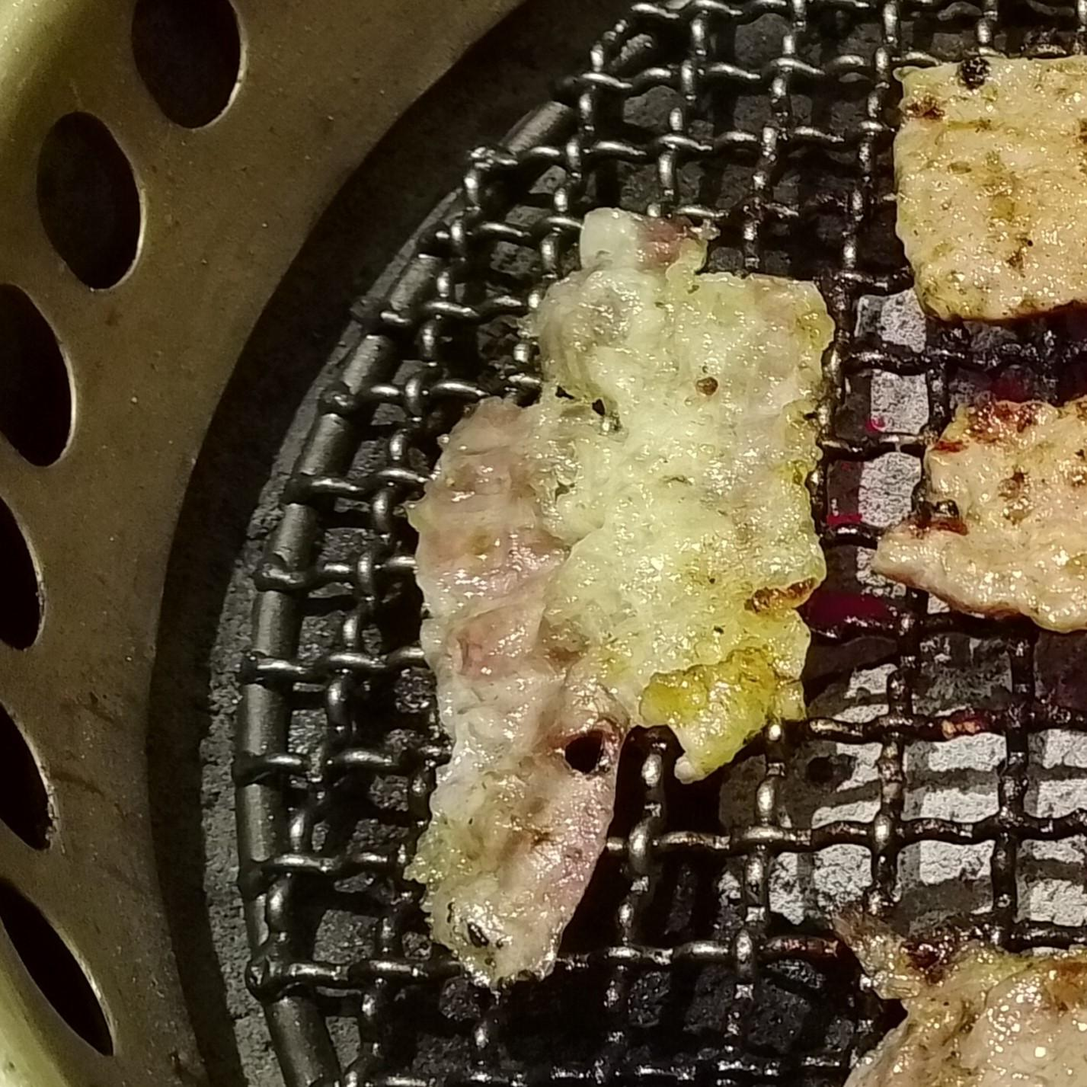Overcooked: (836, 913, 1086, 1086)
Well-Cooked: (408, 214, 835, 989), (871, 396, 1086, 636), (898, 59, 1086, 319)
